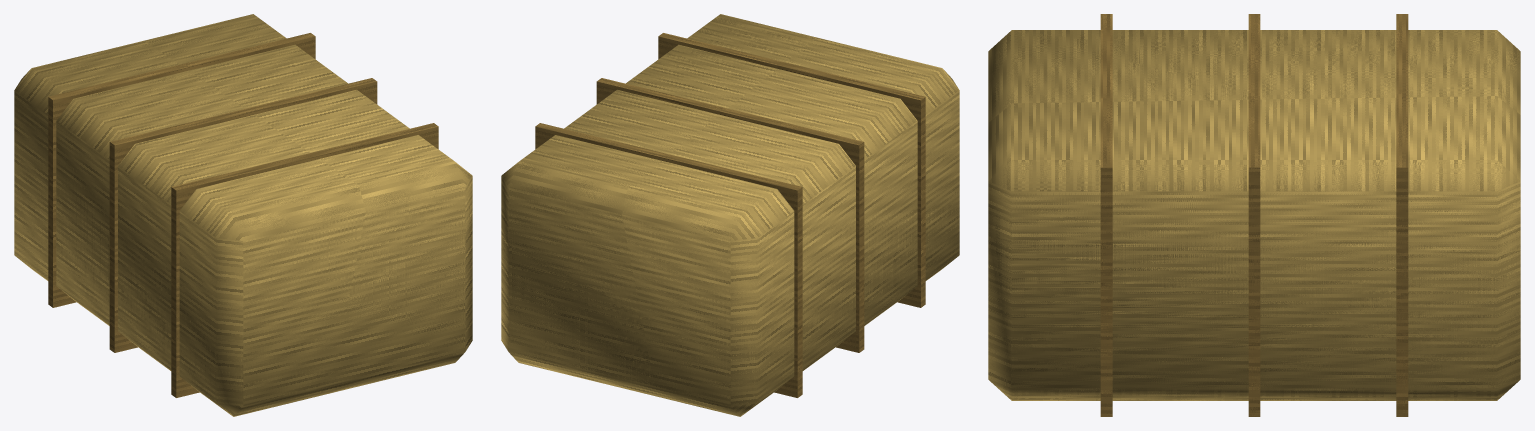
Rendered from fardo_feno_grande.glb.
The picture shows the model from 3 angles, left to right: view 1: azimuth 30°, elevation 25°; view 2: azimuth 150°, elevation 25°; view 3: azimuth 270°, elevation 25°; orthographic projection. The views are drawn at different scales.
Parts seen in each view (by area): view 1: Inteiro, Peca_01, Peca_03, Peca_02, Peca_00; view 2: Inteiro, Peca_03, Peca_01, Peca_02, Peca_00; view 3: Inteiro, Peca_02, Peca_03, Peca_01.
Part boxes in pixels (left/top/right/bottom): Inteiro: left=14, top=14, right=472, bottom=416; Peca_01: left=14, top=40, right=365, bottom=348; Peca_03: left=144, top=14, right=472, bottom=292; Peca_02: left=319, top=217, right=472, bottom=395; Peca_00: left=14, top=219, right=349, bottom=416; Inteiro: left=501, top=14, right=959, bottom=416; Peca_03: left=501, top=14, right=816, bottom=312; Peca_01: left=622, top=38, right=959, bottom=361; Peca_02: left=501, top=228, right=654, bottom=387; Peca_00: left=641, top=203, right=959, bottom=415; Inteiro: left=988, top=14, right=1520, bottom=416; Peca_02: left=988, top=236, right=1520, bottom=416; Peca_03: left=988, top=94, right=1520, bottom=253; Peca_01: left=988, top=14, right=1520, bottom=122.
Bounding box in the file's own units: 1.23 × 0.93 × 1.8.
Materials: 1 (1 with a texture image).
